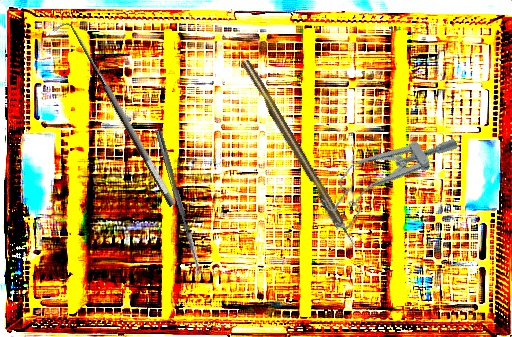Hook Surgical: (50, 14, 180, 216), (240, 58, 361, 255)
Speculum: (310, 110, 466, 236)
Surgical Spoon: (154, 128, 204, 281)
